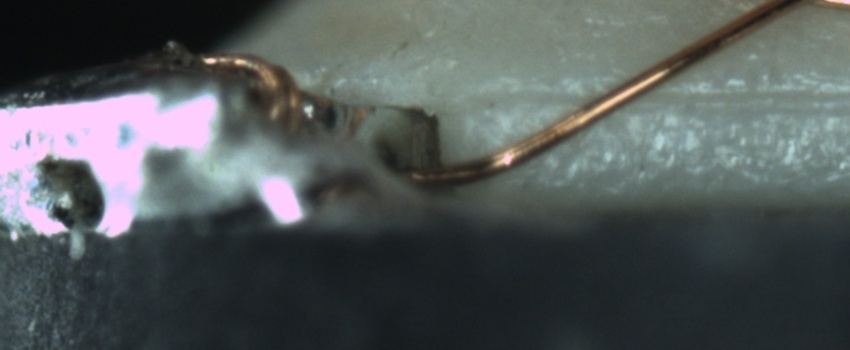DL: (472, 69, 850, 133)
TE: (195, 43, 320, 139)
